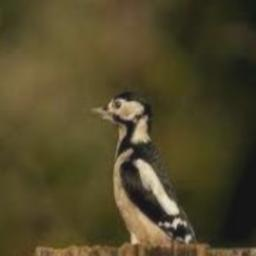Woodpecker: (88, 92, 197, 245)
